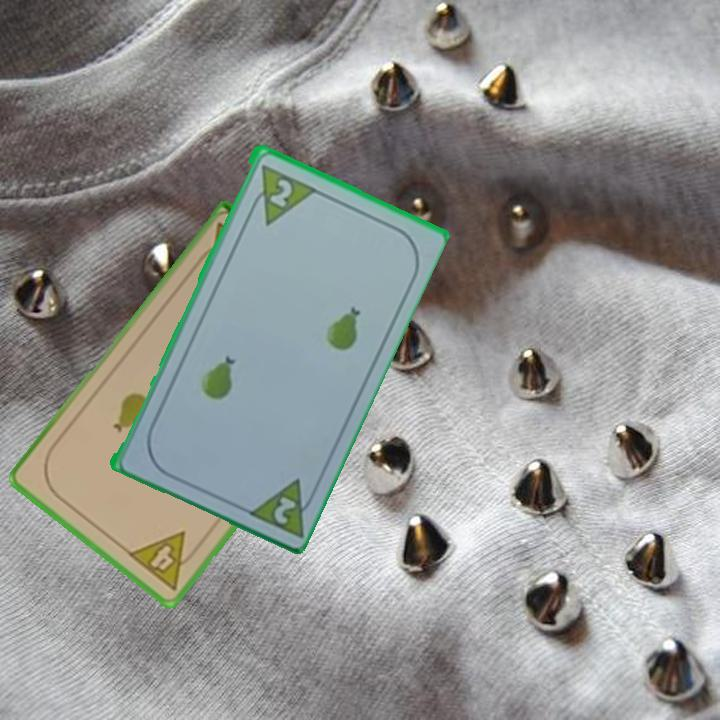2p: (243, 160, 317, 227), (269, 492, 299, 527)
4p: (124, 527, 204, 594)
